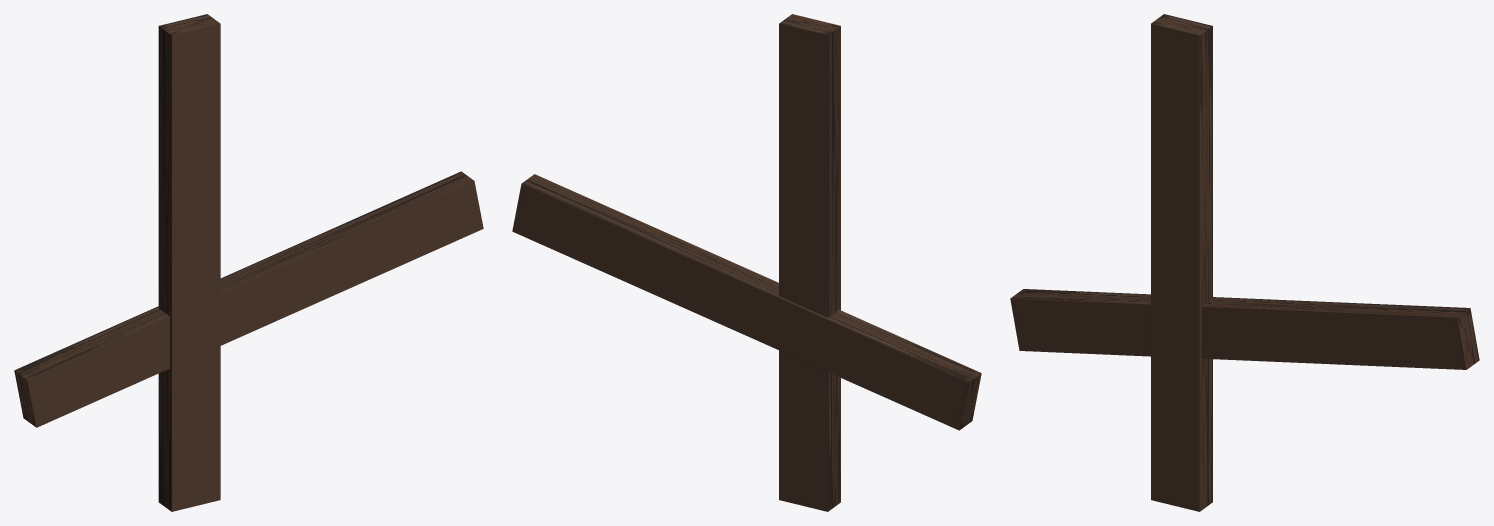
The model's file is pz_g018_fencing_damaged_01_169.obj.
The picture shows the model from 3 angles, left to right: view 1: azimuth 30°, elevation 25°; view 2: azimuth 150°, elevation 25°; view 3: azimuth 330°, elevation 25°; orthographic projection.
Parts seen in each view (by area): view 1: pz_g018_fencing_damaged_01_169; view 2: pz_g018_fencing_damaged_01_169; view 3: pz_g018_fencing_damaged_01_169.
Part boxes in pixels (box(x1,y1,x2,y2)): pz_g018_fencing_damaged_01_169: box(14, 14, 483, 511); pz_g018_fencing_damaged_01_169: box(512, 14, 981, 511); pz_g018_fencing_damaged_01_169: box(1010, 14, 1479, 511).
Bounding box in the file's own units: 0.8419 × 0.84 × 0.048.
Materials: 1 (1 with a texture image).
